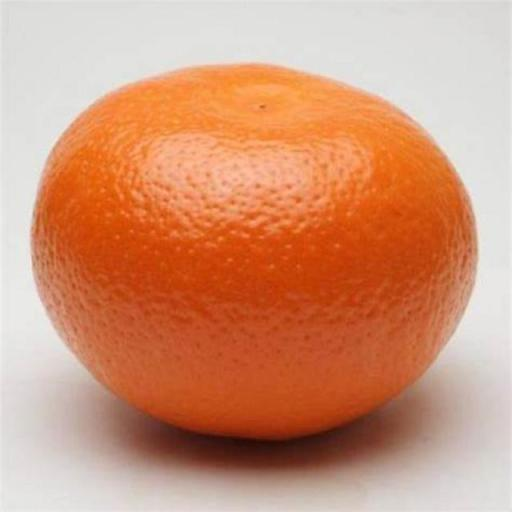fruit: (32, 64, 474, 437)
